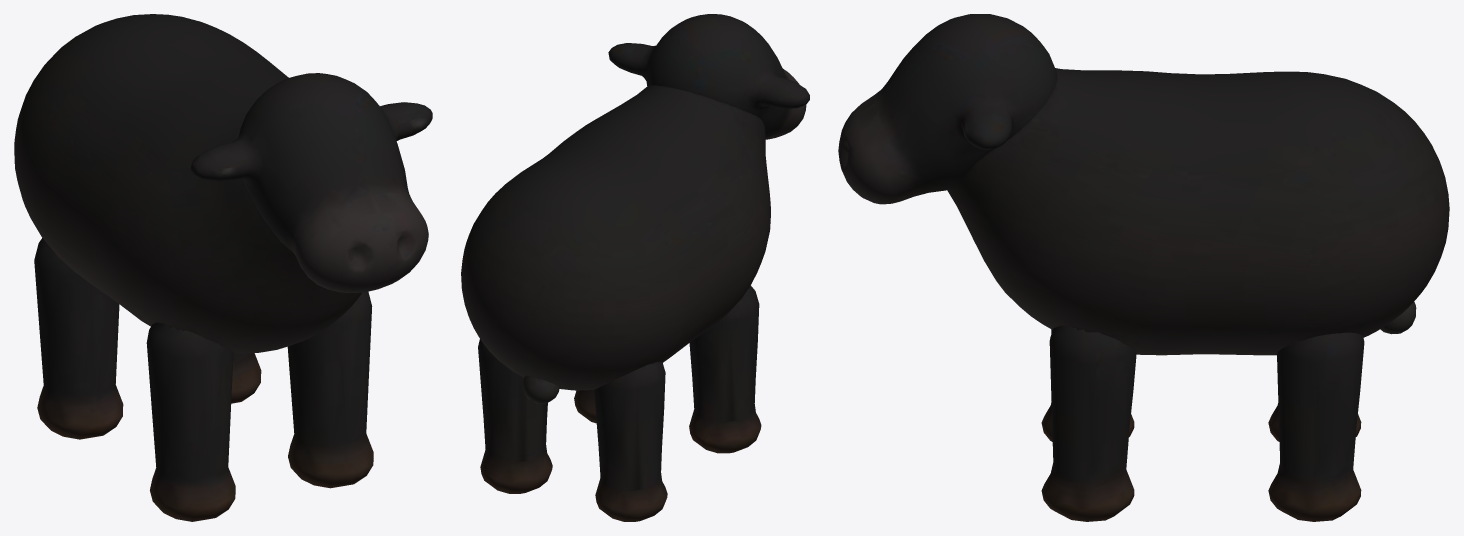
The model's file is animal_angus_cow.glb.
The picture shows the model from 3 angles, left to right: view 1: azimuth 30°, elevation 25°; view 2: azimuth 150°, elevation 25°; view 3: azimuth 270°, elevation 25°; orthographic projection. The views are drawn at different scales.
Visible parts, largest first — view 1: animal_angus_cow, head, leg0, leg2, leg1, leg3; view 2: animal_angus_cow, head, leg2, leg0, leg3, tail, leg1; view 3: animal_angus_cow, head, leg1, leg3.
Boxes of the visible parts, x1,y1,x2,y2 form: animal_angus_cow: [14, 14, 361, 353]; head: [190, 73, 432, 292]; leg0: [146, 322, 235, 521]; leg2: [34, 238, 123, 439]; leg1: [287, 292, 373, 488]; leg3: [231, 353, 261, 403]; animal_angus_cow: [461, 85, 770, 390]; head: [608, 14, 809, 139]; leg2: [594, 361, 667, 521]; leg0: [689, 285, 761, 453]; leg3: [478, 339, 552, 493]; tail: [522, 376, 559, 403]; leg1: [574, 390, 596, 423]; animal_angus_cow: [947, 68, 1449, 355]; head: [838, 14, 1056, 204]; leg1: [1041, 326, 1136, 521]; leg3: [1268, 332, 1364, 521].
Size of the model in its own units: 0.3134 by 0.5405 by 0.6467.
Materials: 1 (1 with a texture image).
